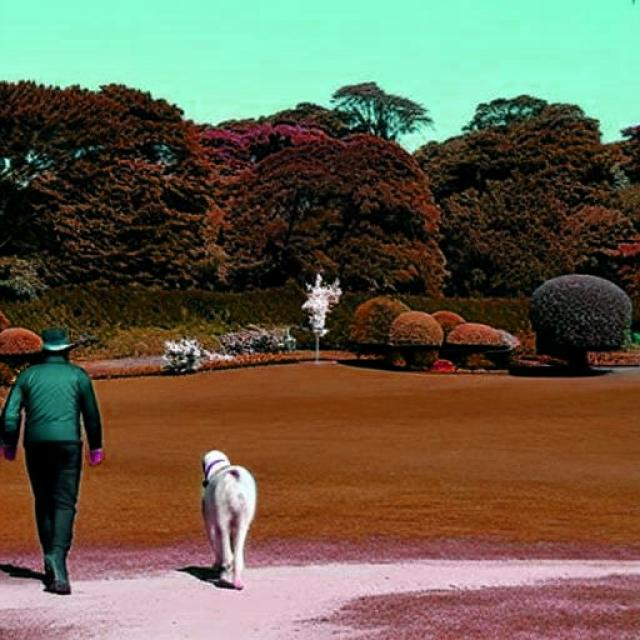Unleashed_Dog: (25, 442, 257, 594)
